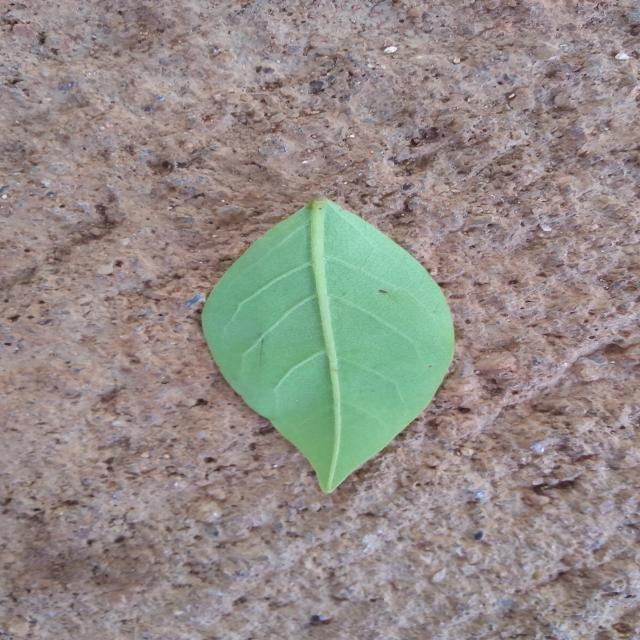sampige: (202, 198, 453, 492)
